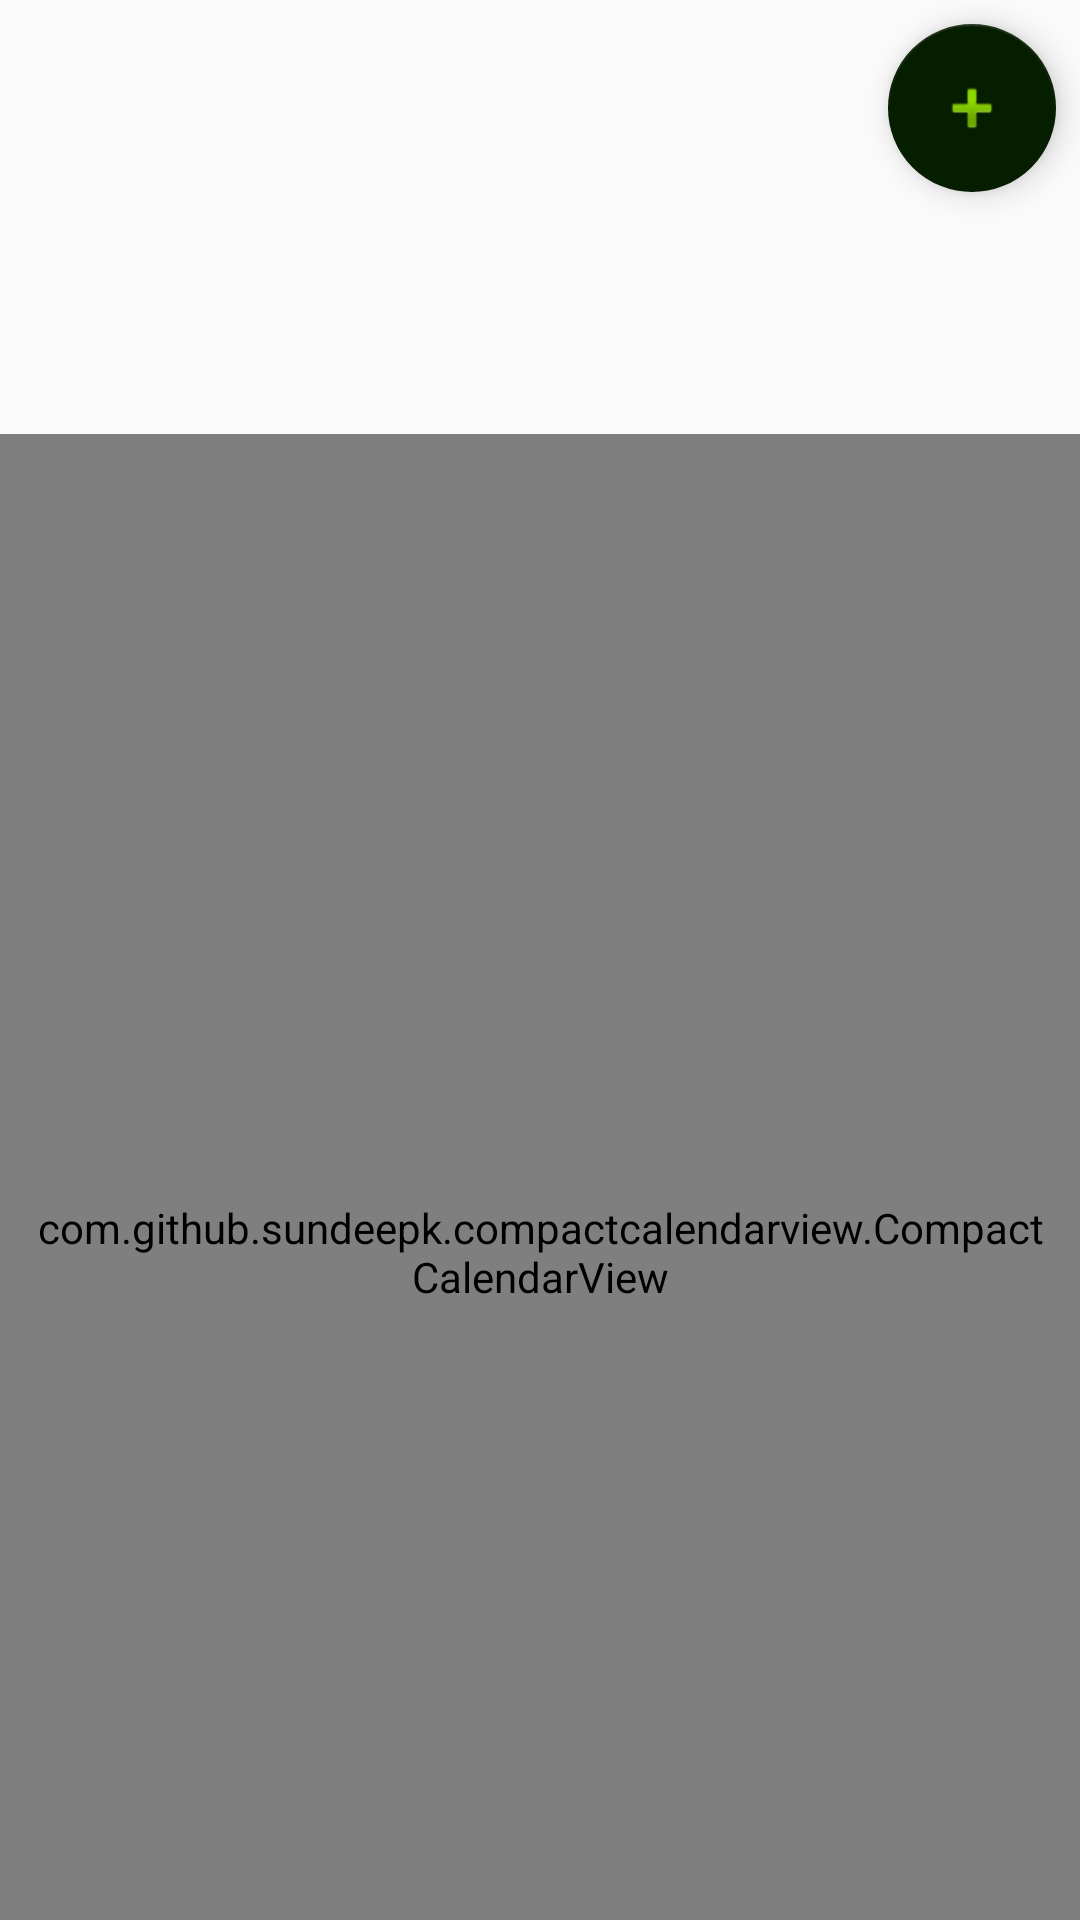

Named icons in this screenshot (1080 × 1920) and their centers, [x,y]:
add: [972,108]
